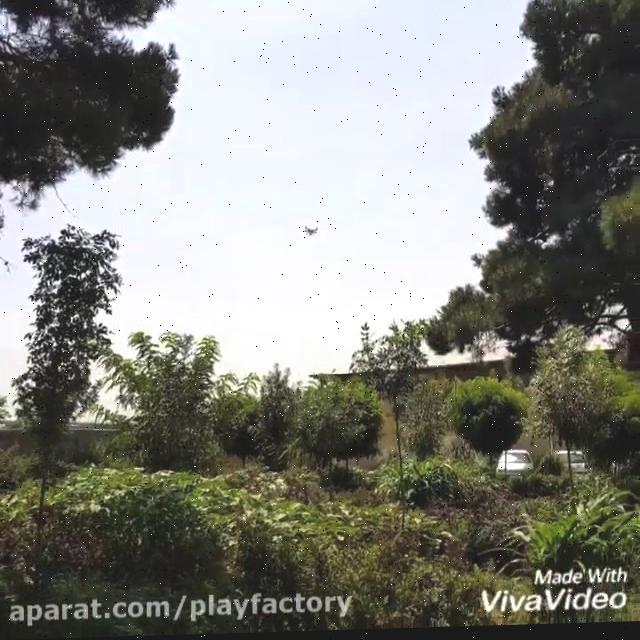drone: (300, 220, 324, 241)
